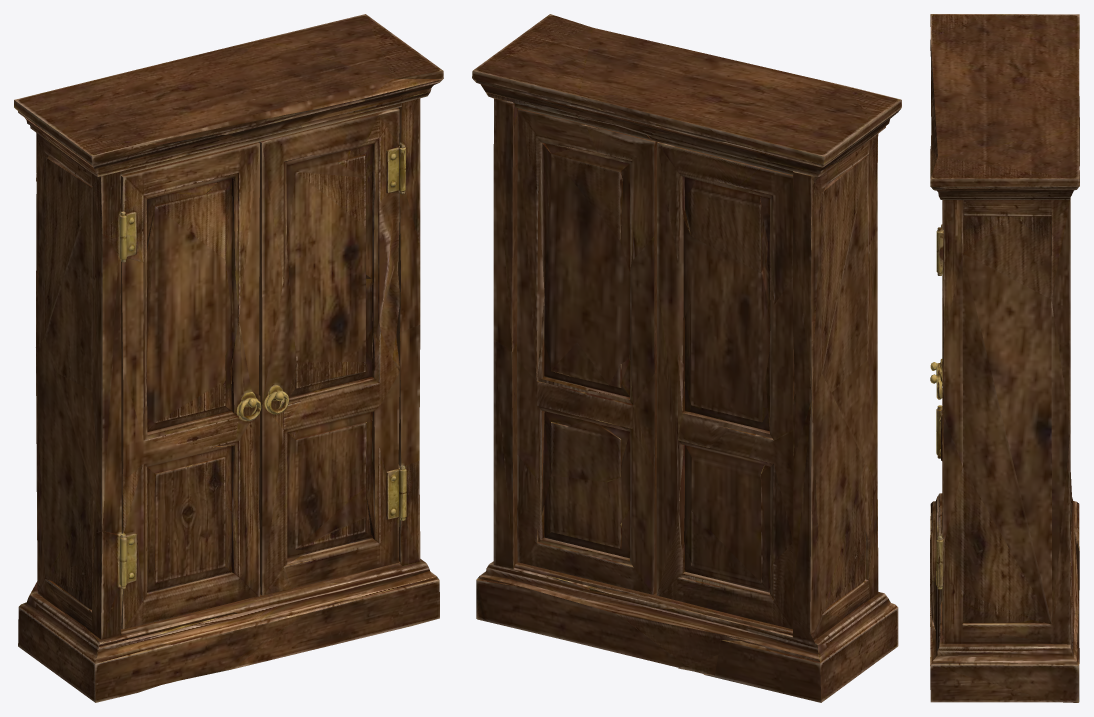
File: display-cabinet.glb
The picture shows the model from 3 angles, left to right: view 1: azimuth 30°, elevation 25°; view 2: azimuth 150°, elevation 25°; view 3: azimuth 270°, elevation 25°; orthographic projection. The views are drawn at different scales.
Parts seen in each view (by area): view 1: Mesh_0; view 2: Mesh_0; view 3: Mesh_0.
Part boxes in pixels (left/top/right/bottom): Mesh_0: left=14, top=14, right=443, bottom=702; Mesh_0: left=472, top=14, right=901, bottom=702; Mesh_0: left=930, top=14, right=1079, bottom=702.
Size of the model in its own units: 1.28 by 1.9 by 0.4913.
Materials: 1 (1 with a texture image).
